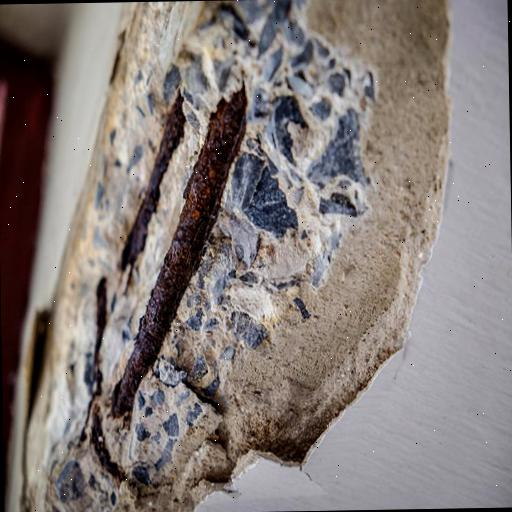spalling: (24, 0, 446, 512)
